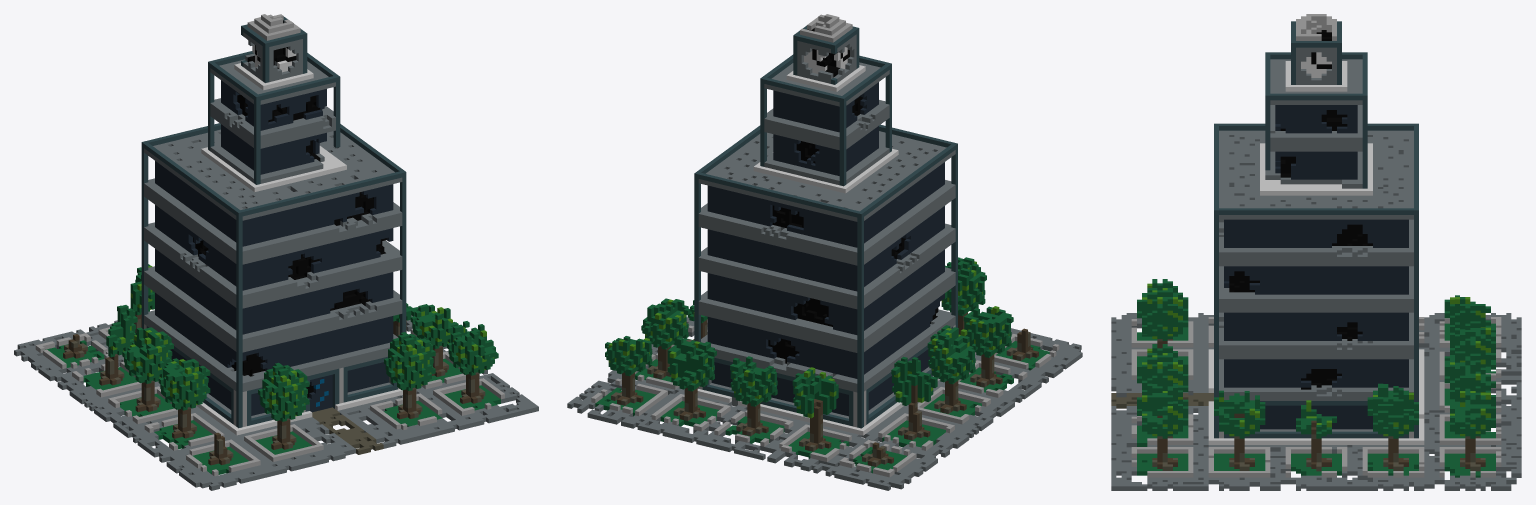
File: building_big_2_damaged.obj
3 views of the same model, side by side, from view 1: azimuth 30°, elevation 25°; view 2: azimuth 150°, elevation 25°; view 3: azimuth 270°, elevation 25° (orthographic). The views are drawn at different scales.
Size of the model in its own units: 8 by 8.3 by 8.
1 material, 1 textured.
